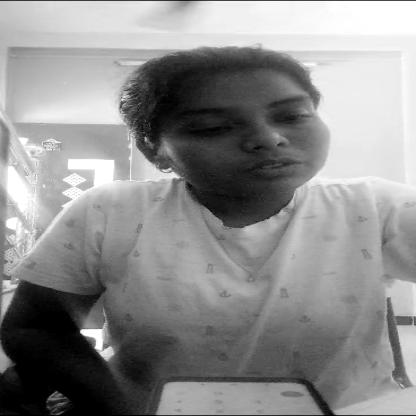Distracted: (148, 69, 329, 191)
